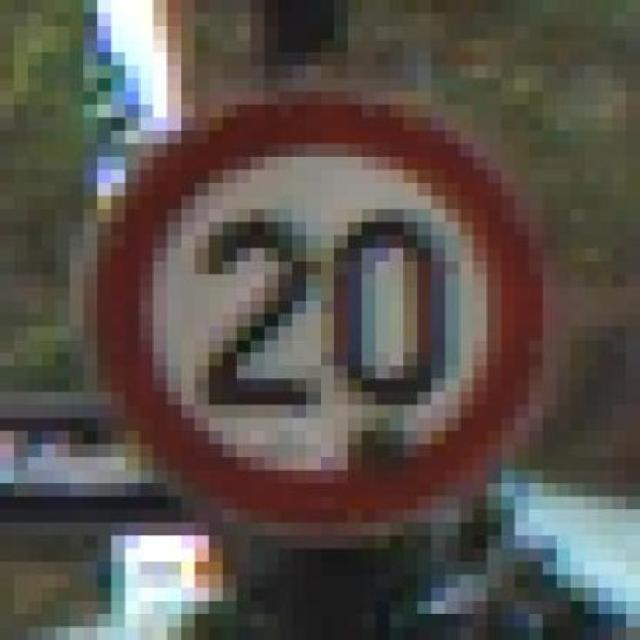forb_speed_over_20: (114, 99, 540, 512)
